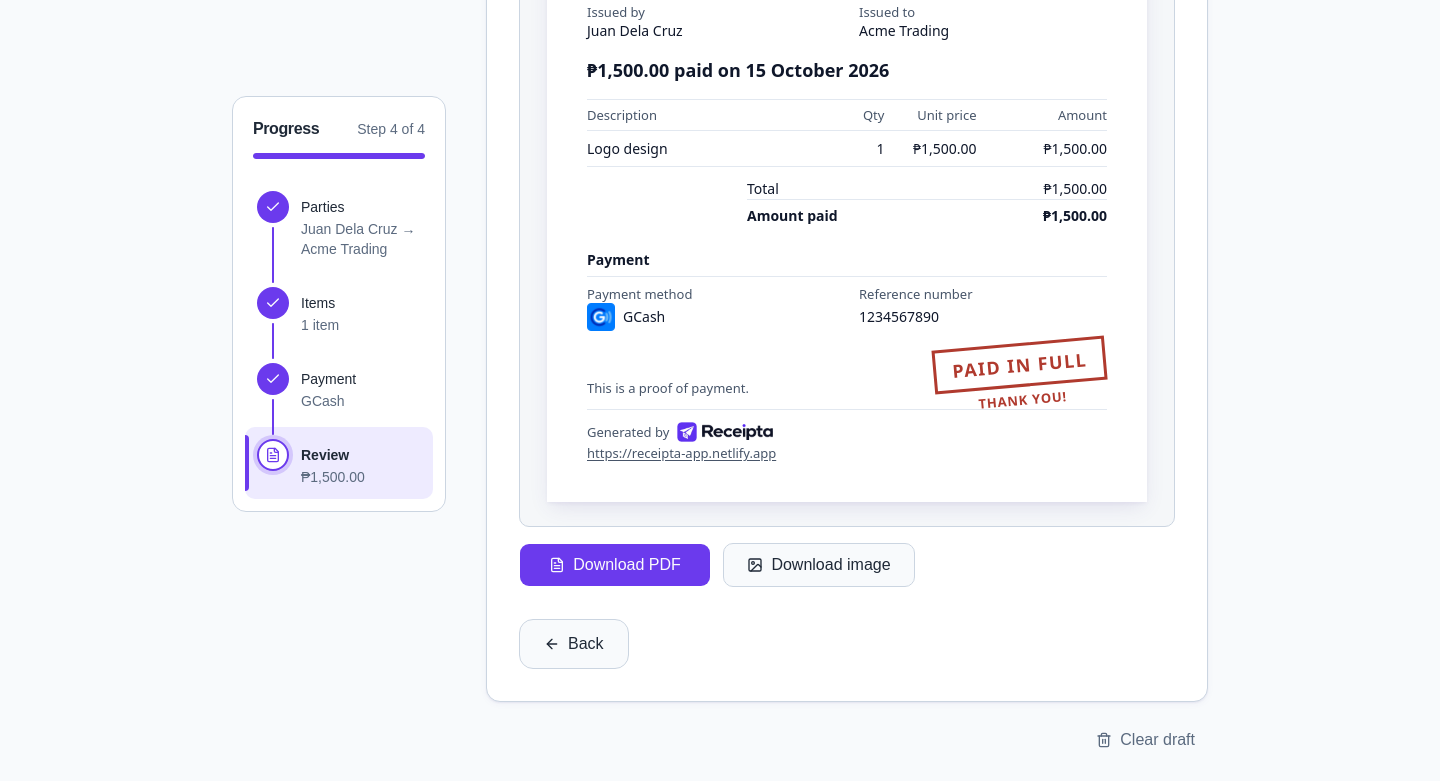
Scenario: the offer to start a new receipt › never appears after a failed PDF download
(page scrolled)
Click the button "Download PDF": (615, 565) [519,543,711,587]
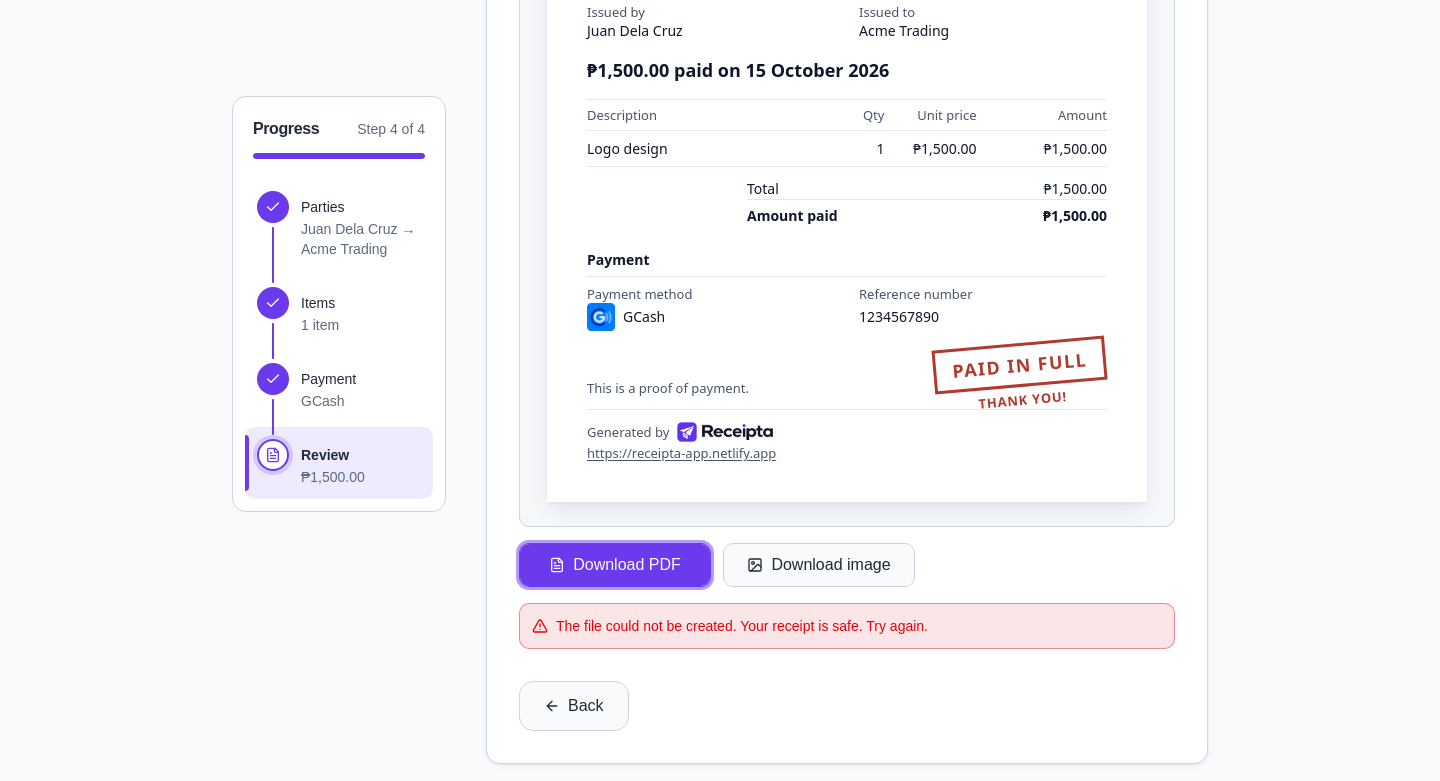
Expected: the message "The file could not be created. Your receipt is safe. Try again." is shown, [519,603,1175,649]
